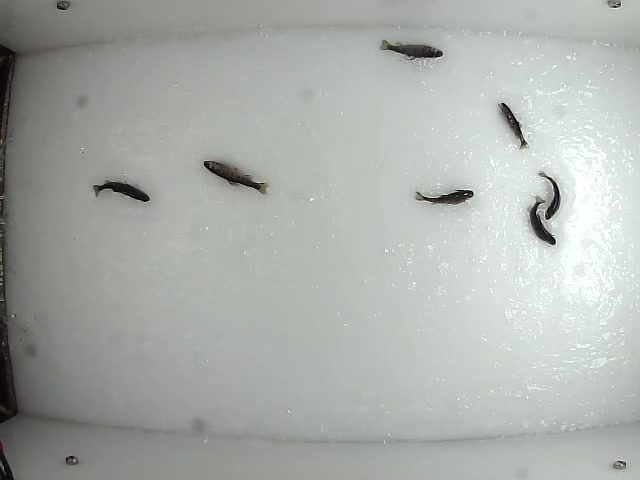fish: (200, 159, 270, 194), (498, 102, 532, 151), (379, 36, 445, 61), (528, 194, 559, 246), (535, 166, 562, 222), (92, 180, 152, 204), (412, 187, 477, 207)
